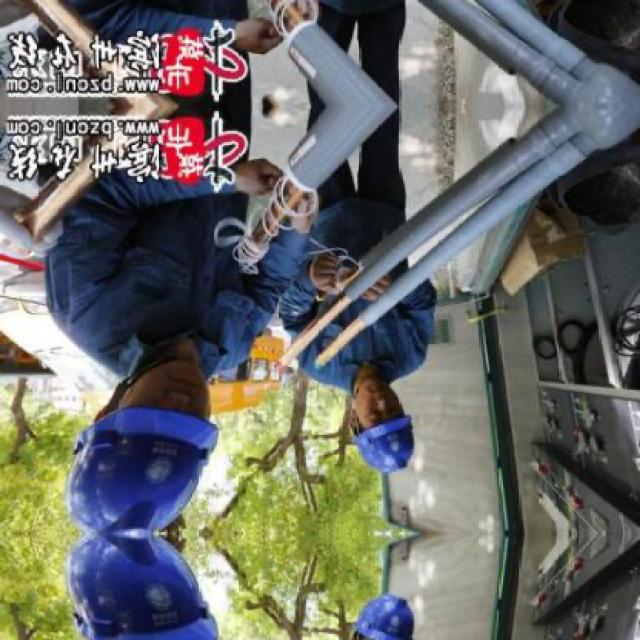con casco: (56, 350, 249, 556), (297, 353, 453, 499)
